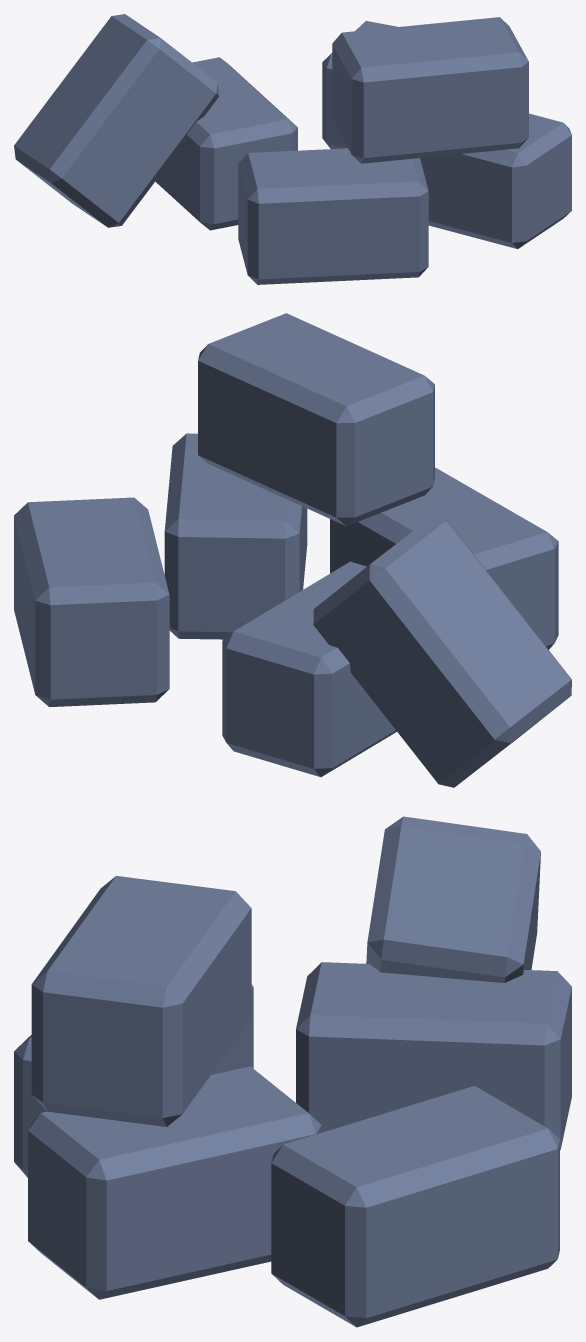
The model's file is rubble.glb.
3 views of the same model, one above another, from view 1: azimuth 30°, elevation 25°; view 2: azimuth 150°, elevation 25°; view 3: azimuth 270°, elevation 25° (orthographic). The views are drawn at different scales.
Visible parts, largest first — view 1: bricks; view 2: bricks; view 3: bricks.
Boxes of the visible parts, x1,y1,x2,y2 form: bricks: [14, 14, 571, 284]; bricks: [14, 313, 571, 787]; bricks: [14, 816, 571, 1327].
Size of the model in its own units: 1.53 by 0.6244 by 1.11.
